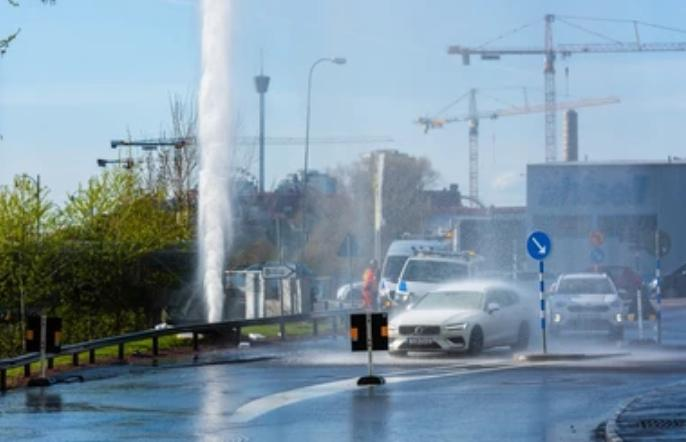pipe burst: (195, 0, 233, 325)
water accumulation: (0, 306, 686, 442)
